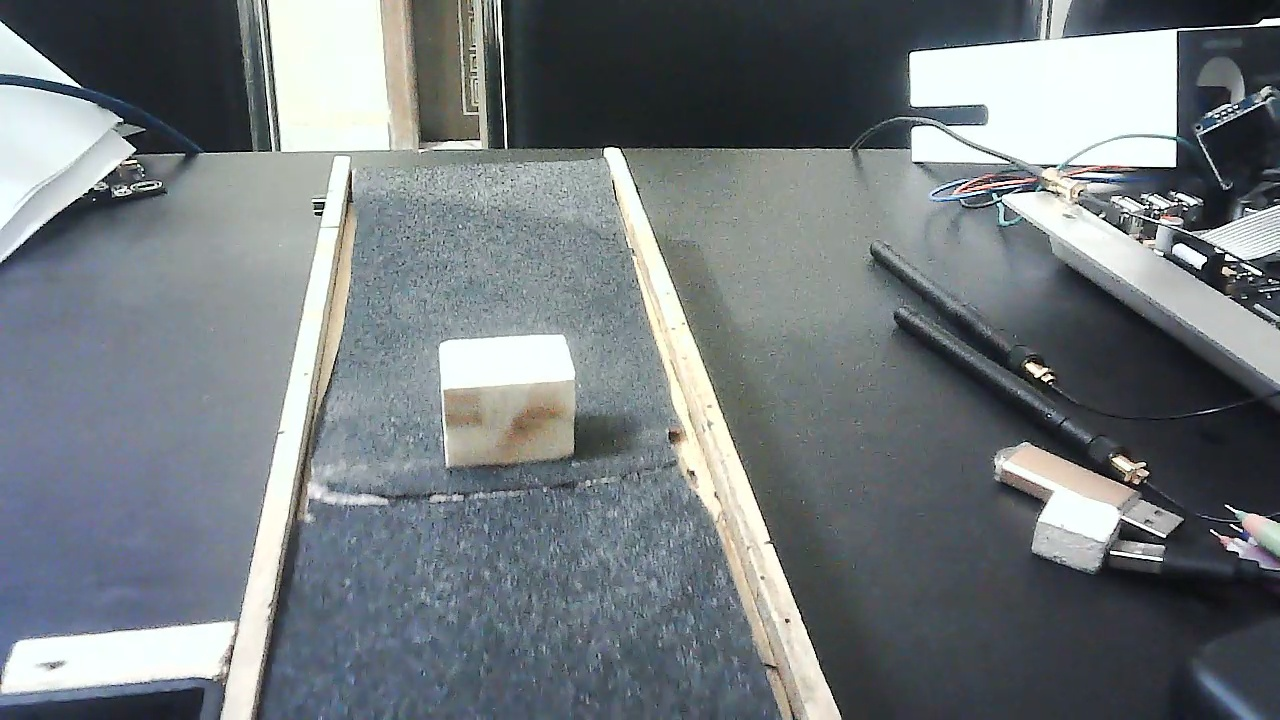Medium: (440, 331, 578, 469)
